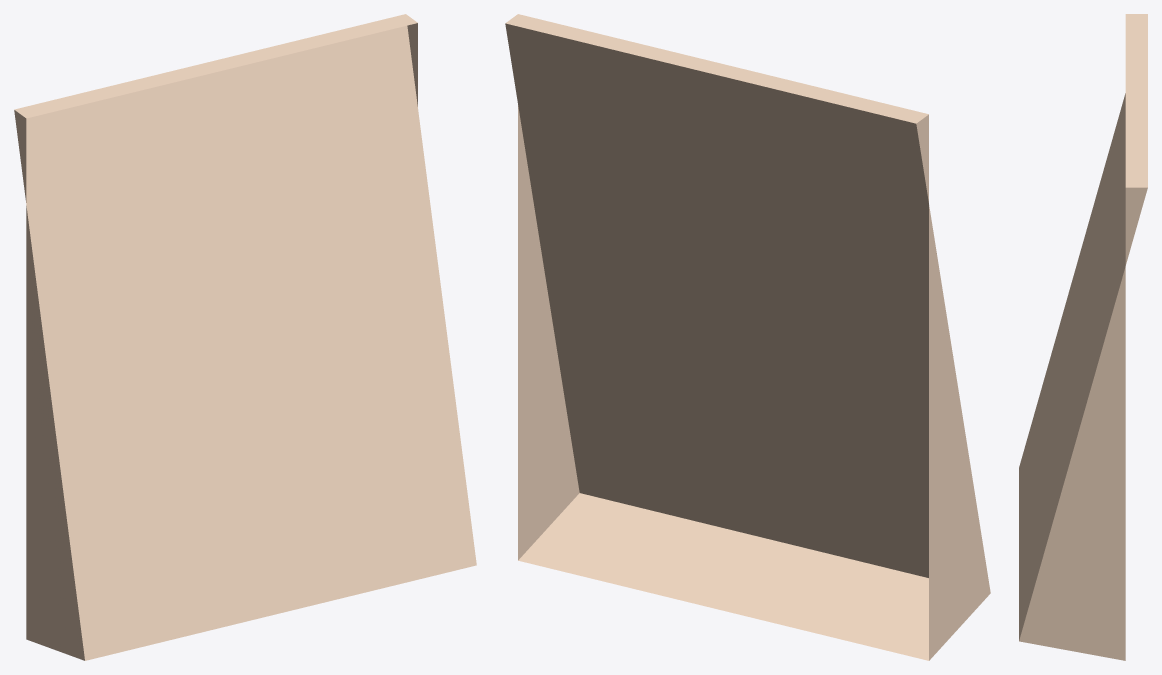
File: original-2.obj
3 renders of one model, left to right at view 1: azimuth 30°, elevation 25°; view 2: azimuth 150°, elevation 25°; view 3: azimuth 270°, elevation 25°, orthographic. The views are drawn at different scales.
Visible parts, largest first — view 1: #ID10; view 2: #ID10; view 3: #ID10.
Boxes of the visible parts, <box> form: #ID10: <box>14,14,476,660</box>; #ID10: <box>505,14,990,660</box>; #ID10: <box>1019,14,1147,660</box>.
Size of the model in its own units: 0.2735 by 0.3476 by 0.0858.
